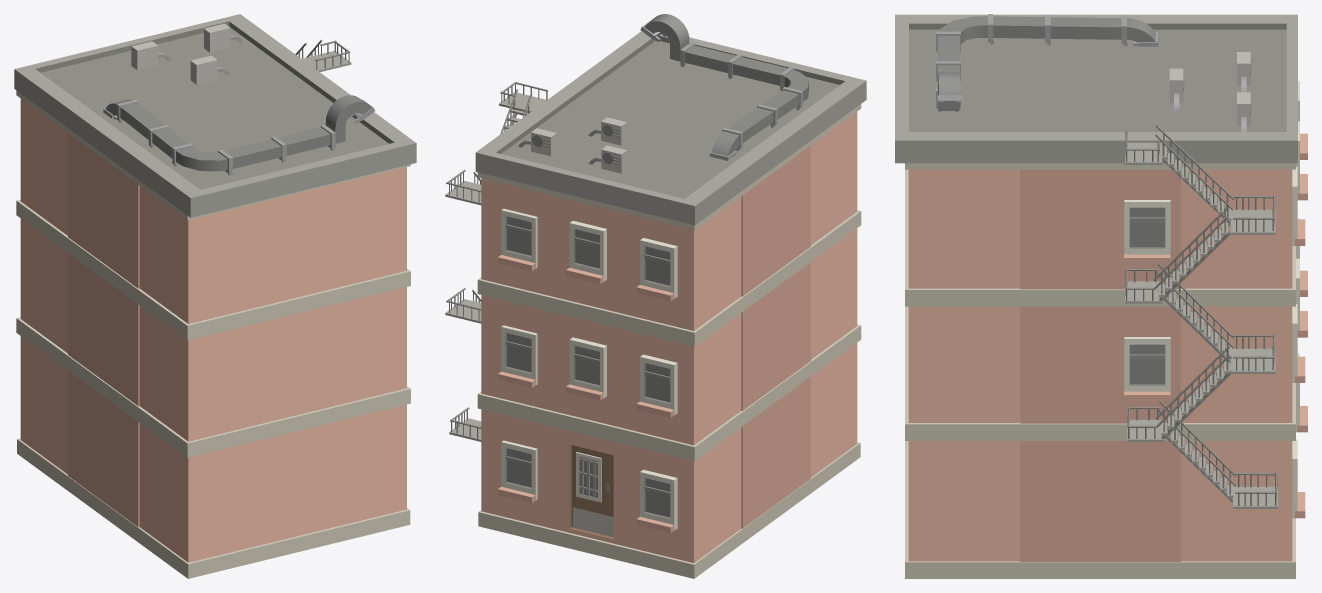
Rendered from house25.fbx.
3 views of the same model, side by side, from view 1: azimuth 30°, elevation 25°; view 2: azimuth 150°, elevation 25°; view 3: azimuth 270°, elevation 25° (orthographic). The views are drawn at different scales.
Visible parts, largest first — view 1: o_1; view 2: o_1; view 3: o_1.
Boxes of the visible parts, x1=… form: o_1: x1=14, y1=14, x2=416, y2=578; o_1: x1=445, y1=14, x2=866, y2=578; o_1: x1=895, y1=14, x2=1307, y2=578.
Size of the model in its own units: 1004 by 1516 by 1178.
